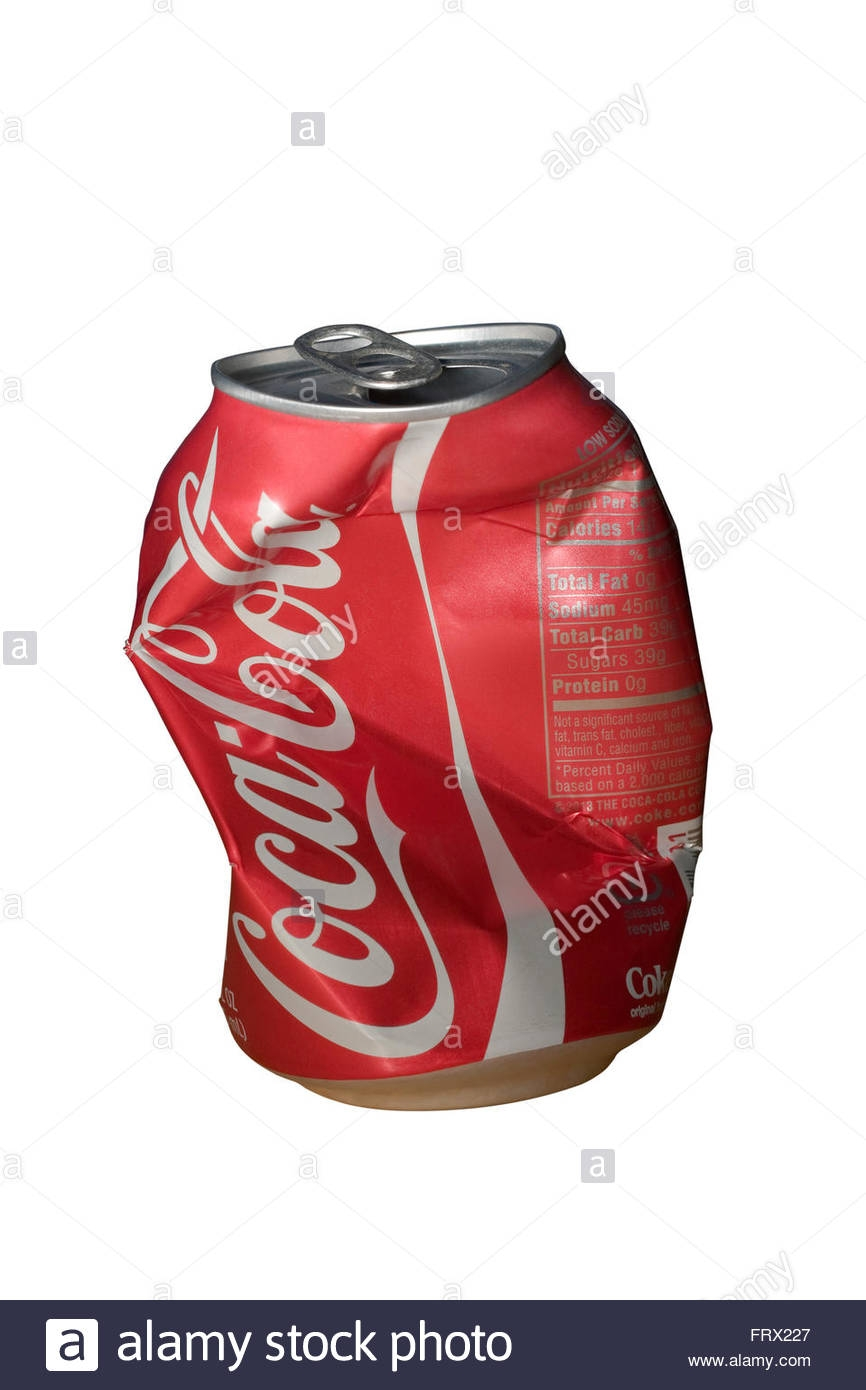metal: (109, 263, 749, 1142)
